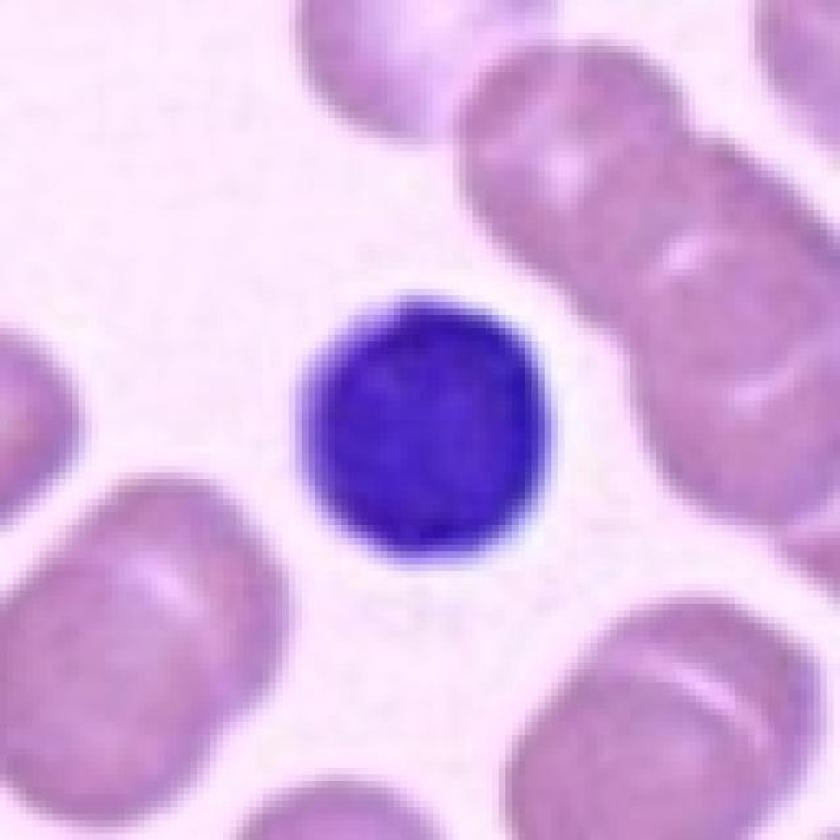lymphocyte: (298, 278, 559, 580)
